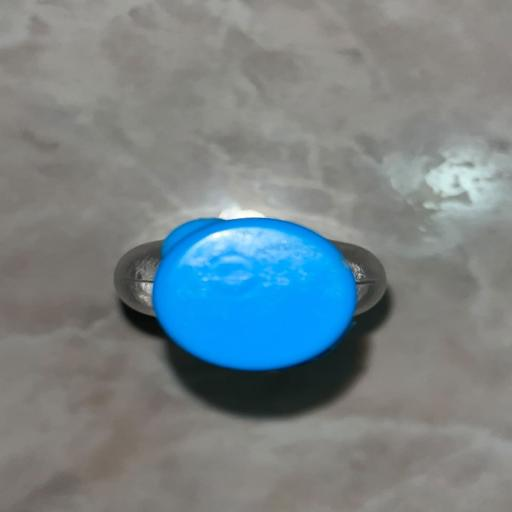PET: (38, 152, 450, 479)
